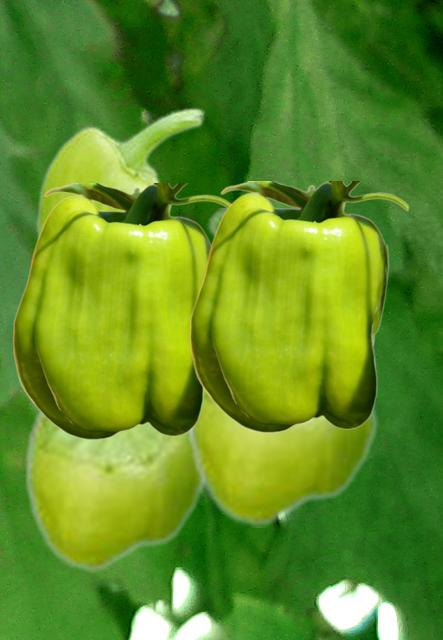bell_pepper: (186, 208, 378, 526), (12, 183, 230, 439), (189, 181, 408, 432), (23, 408, 206, 571), (35, 106, 205, 239)
